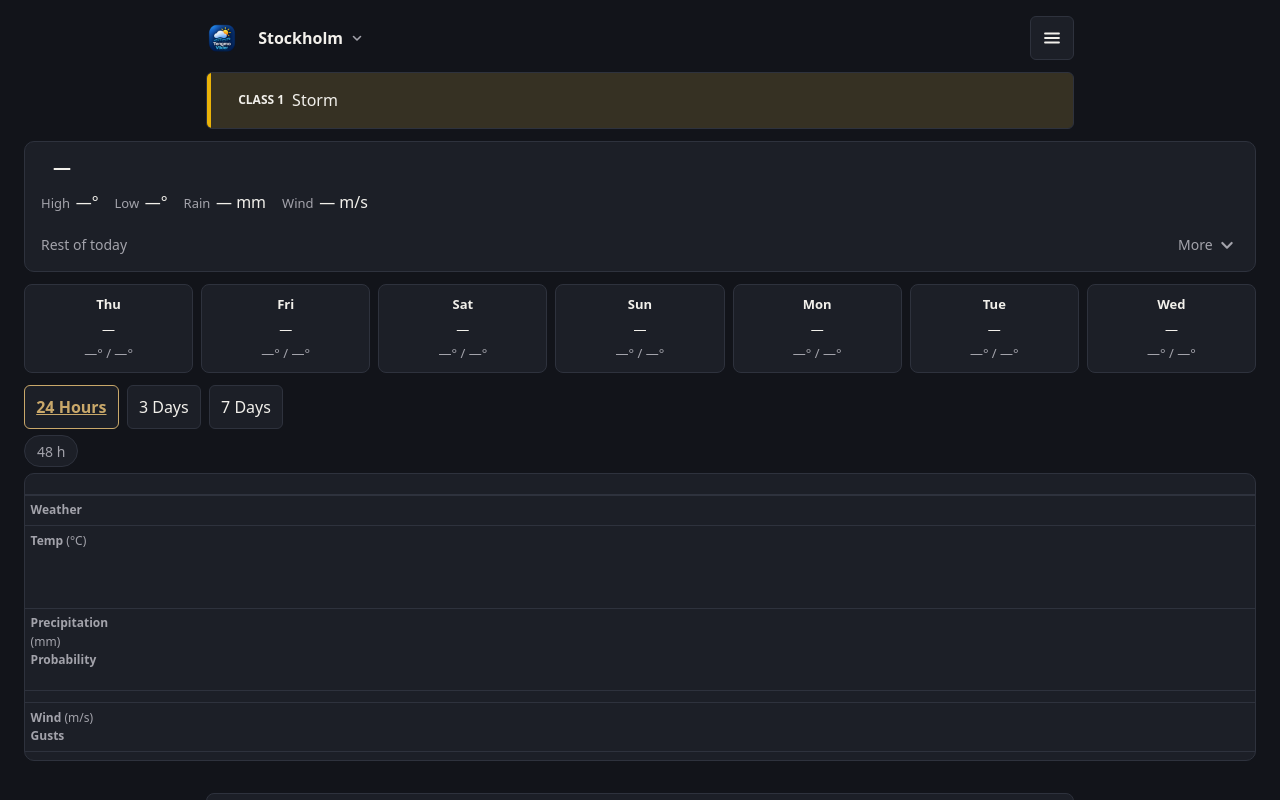
Test: WarningBanner (028-severe-weather-warnings) › shows the collapsed summary for one active warning, expandable to the full description
The image size is (1280, 800).
Expected: the element named "Weather warnings" does not show "Strong winds expected.", [206,72,1074,129]
Click the button "Class 1 Storm" at (261, 100), box [227,83,1057,119]
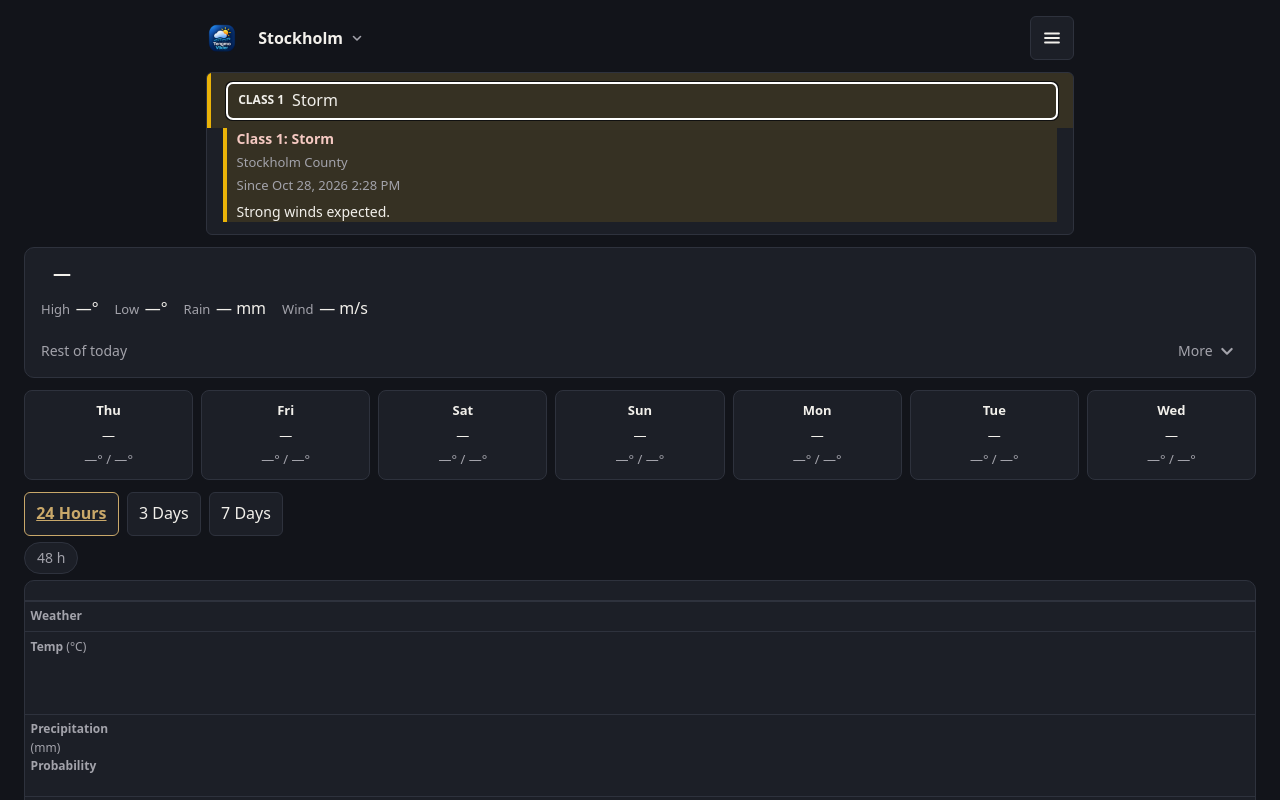
Expected: the element named "Weather warnings" shows "Strong winds expected.", [237,202,390,220]
Expected: the element named "Weather warnings" shows "Stockholm County", [237,153,348,171]
